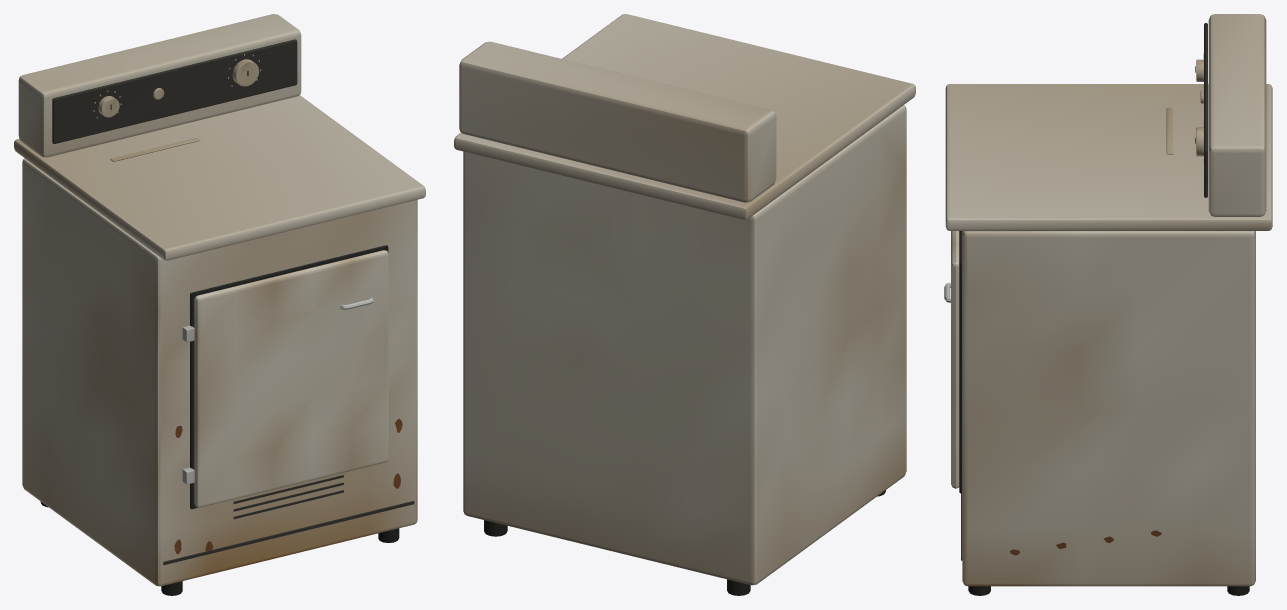
Rendered from dryer.glb.
3 views of the same model, side by side, from view 1: azimuth 30°, elevation 25°; view 2: azimuth 150°, elevation 25°; view 3: azimuth 270°, elevation 25° (orthographic). The views are drawn at different scales.
Visible parts, largest first — view 1: dryer_metal; view 2: dryer_metal; view 3: dryer_metal.
Part boxes in pixels (bbox=[...]): dryer_metal: bbox=[14, 14, 425, 595]; dryer_metal: bbox=[454, 14, 915, 595]; dryer_metal: bbox=[944, 14, 1272, 595].
Size of the model in its own units: 0.6904 by 1.07 by 0.6975.
